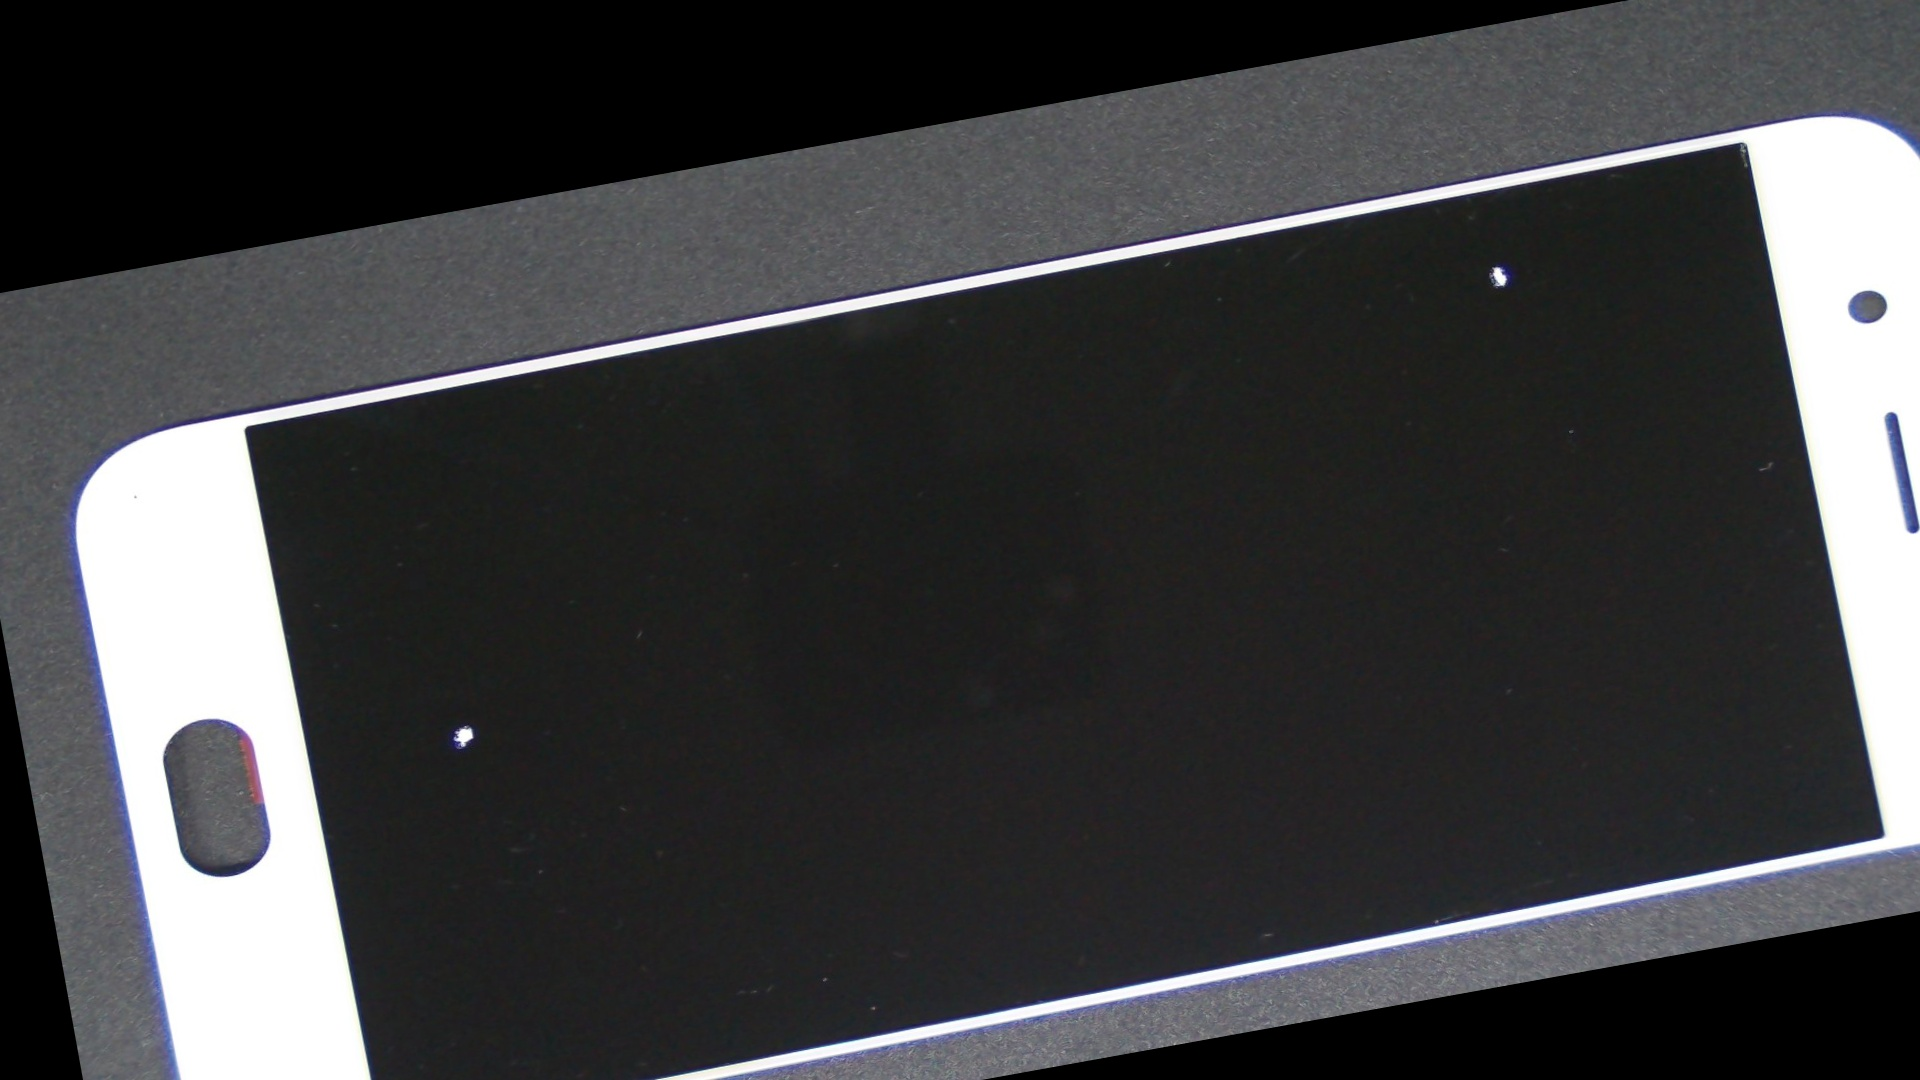oil: (719, 58, 1920, 518), (204, 435, 725, 1013)
